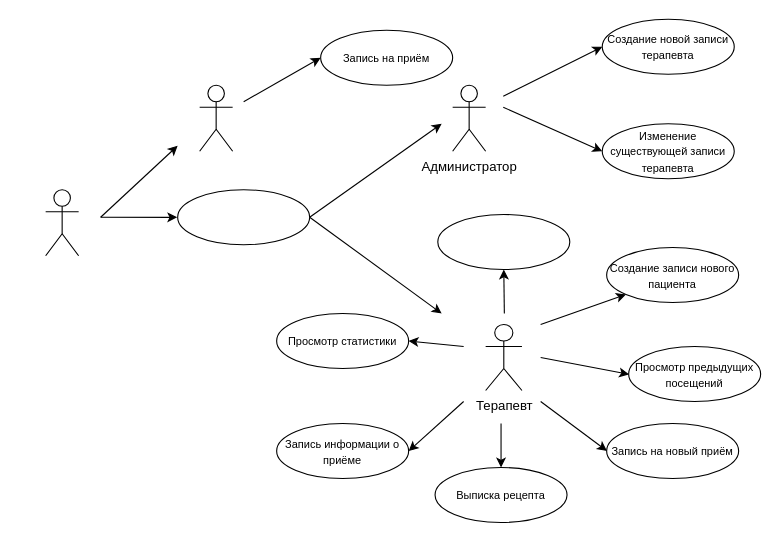
This 780x542 diagram has some shape labels left out. The shapes that lost their labels are listed below. From the top down, each one's centre as x and y in pixels, then its label:
pixel 216 117: Пациент
pixel 62 222: Пользователь
pixel 243 217: Авторизация
pixel 503 241: Поиск пациента
